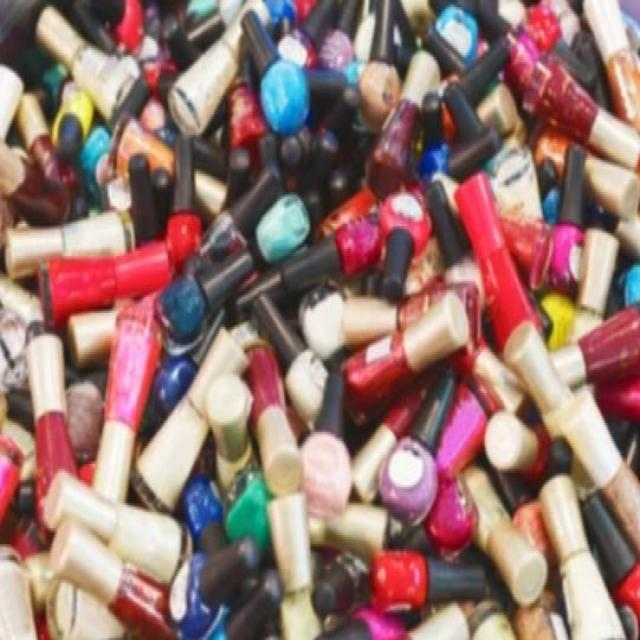electronic: (92, 314, 162, 502), (378, 361, 456, 529), (27, 332, 82, 542), (240, 335, 301, 503), (296, 362, 359, 524), (238, 5, 310, 130), (380, 184, 431, 300)
